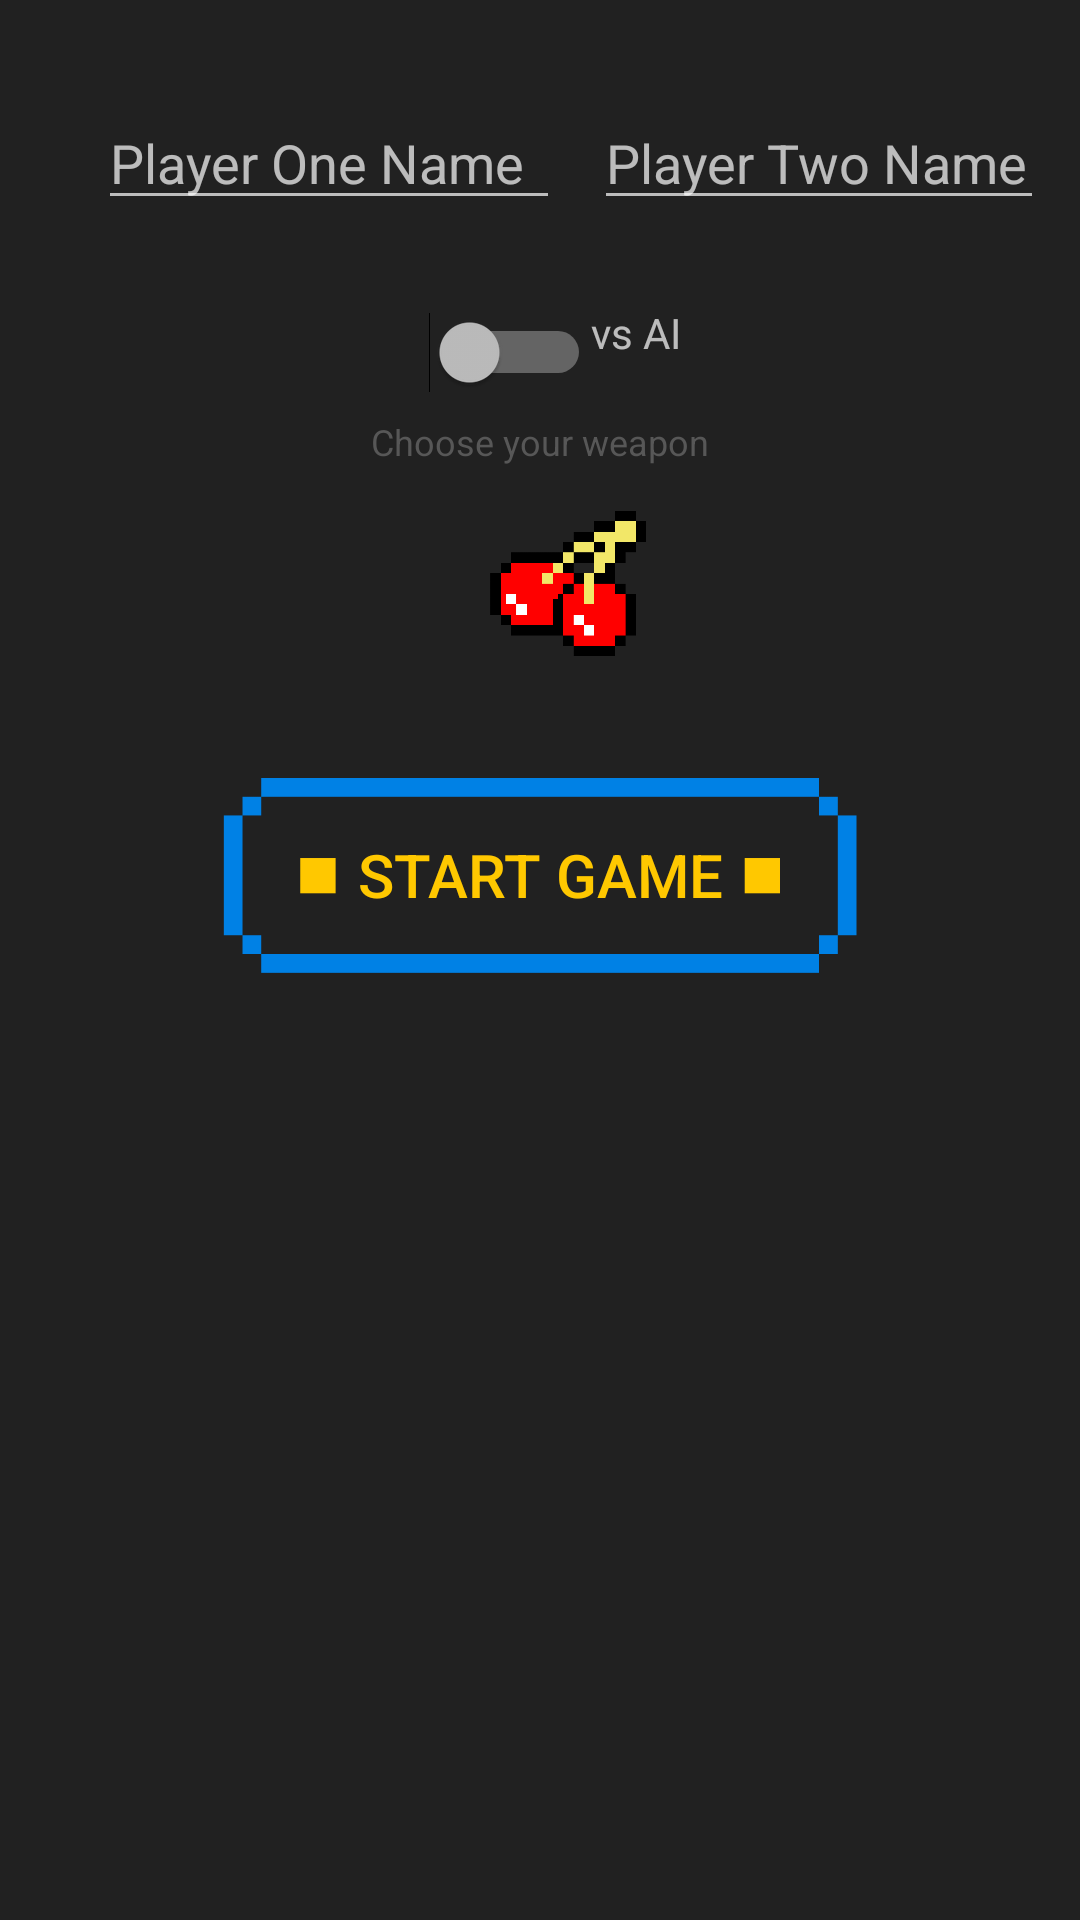

Point at icon controls on the screen. Image size 1080*1920, points as point (x, y).
Cherry: point (568, 583)
